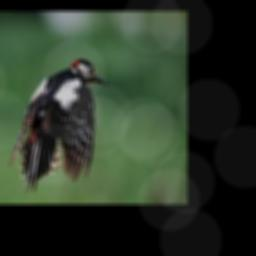Woodpecker: (9, 58, 109, 193)
